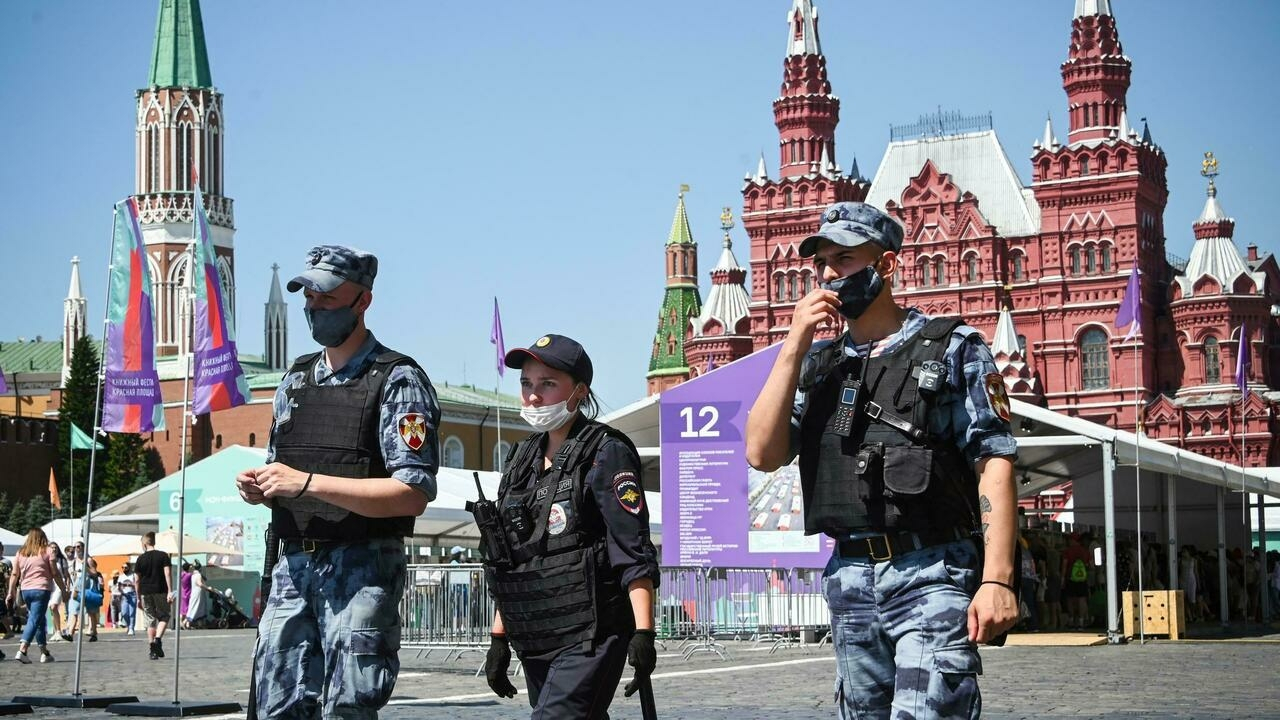with_incorrect_mask: (517, 372, 571, 423), (819, 249, 870, 302)
with_mask: (306, 286, 357, 340)
